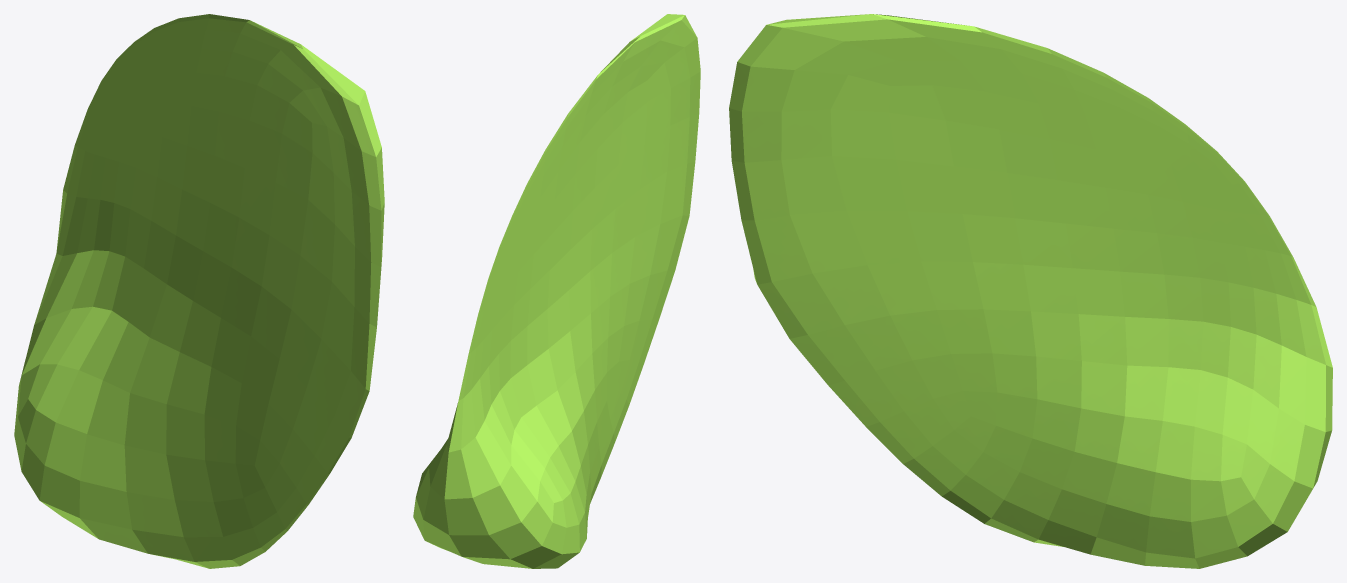
Rendered from WingStipule.fbx.
3 views of the same model, side by side, from view 1: azimuth 30°, elevation 25°; view 2: azimuth 150°, elevation 25°; view 3: azimuth 270°, elevation 25° (orthographic). The views are drawn at different scales.
Parts seen in each view (by area): view 1: Cube; view 2: Cube; view 3: Cube.
Boxes of the visible parts, box(x1,y1,x2,y2) form: Cube: box(14, 14, 384, 568); Cube: box(413, 14, 700, 568); Cube: box(729, 14, 1332, 568).
Size of the model in its own units: 0.9018 by 2.78 by 2.81.
Materials: 1 (1 with a texture image).
